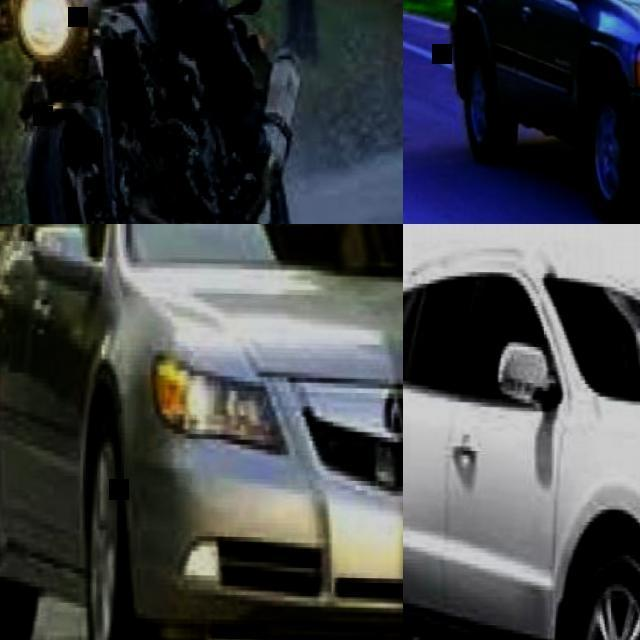car: (10, 0, 311, 216), (455, 0, 639, 208)
